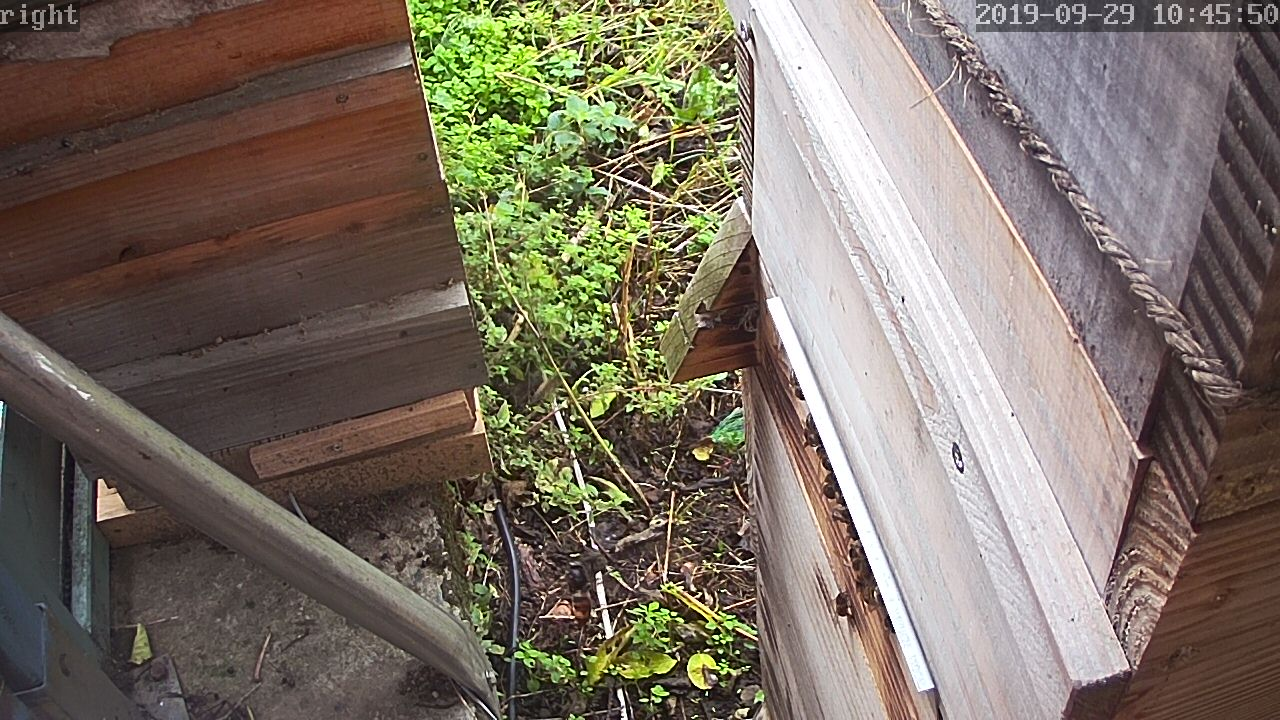bee: (837, 514, 869, 565), (814, 466, 849, 504), (798, 416, 831, 456), (830, 503, 858, 546), (855, 565, 883, 608), (785, 366, 807, 404), (830, 583, 851, 621)
hornet: (556, 548, 599, 631)
